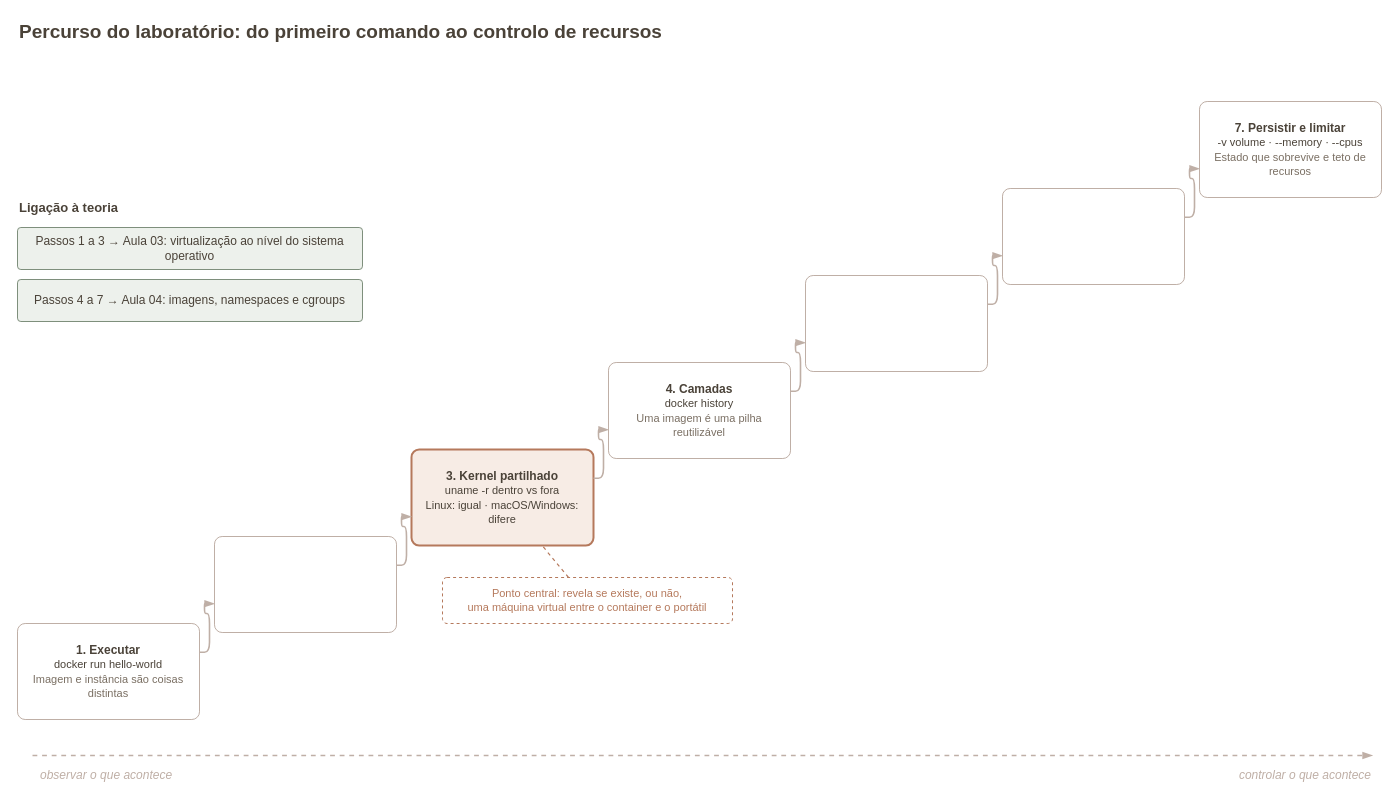
Some shapes in this 1399 by 802 pixel diagram are drawn without their labels. Each missing label, with the centre of its shape:
2. Isolar hostname · ps aux · ls / Processos, ficheiros e nome próprios: the point at 305,584
5. Publicar -p 8080:80 Pilha de rede própria, mapeada para fora: the point at 896,323
6. Construir Dockerfile · docker build Produzir a própria imagem: the point at 1093,236
